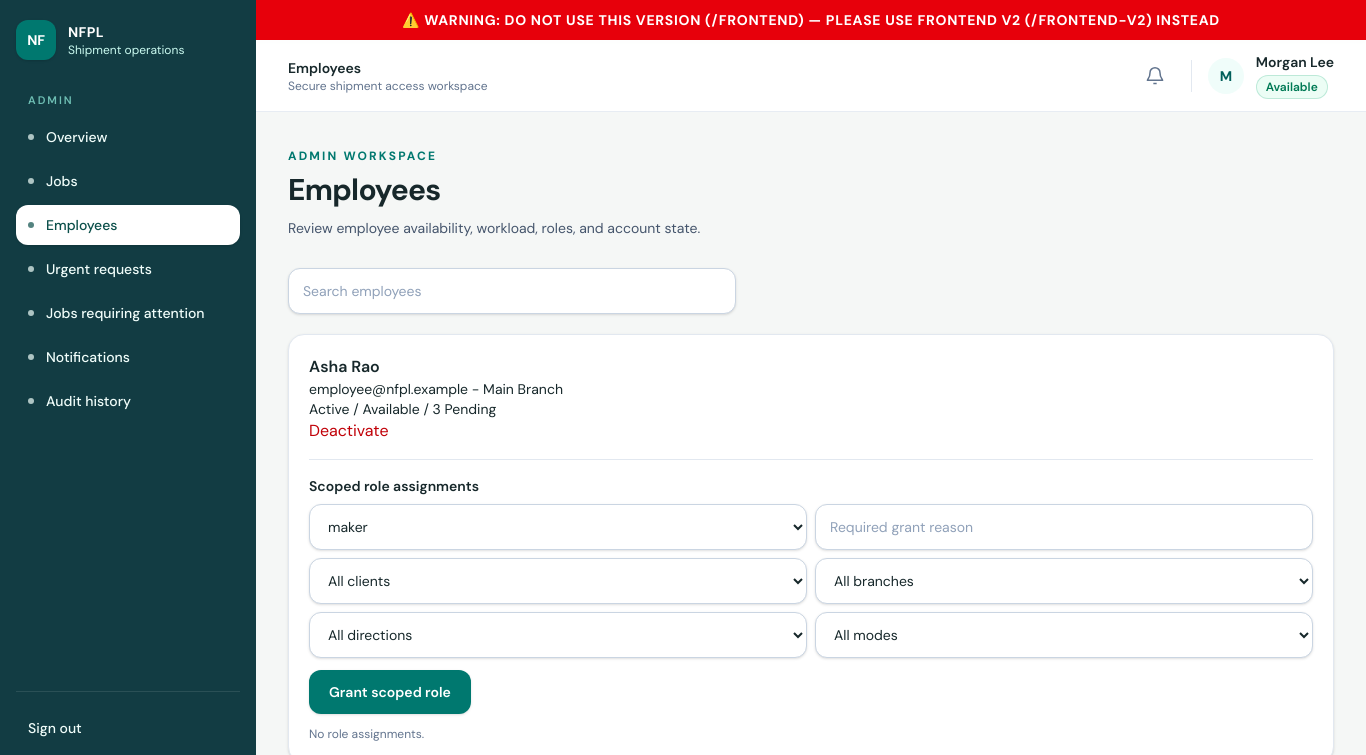
Test case: Phase 6B Admin workflows › submits scoped role grants and refreshes the employee directory
This screenshot has width=1366, height=755.
Expected: the text "Asha Rao" is shown, [309,356,380,377]
Select "checker" in the dropdown named "Role" at point(558, 527), box [309,504,807,550]
Select "Acme Imports (ACME)" in the dropdown named "Client scope" at point(558, 581), box [309,558,807,604]
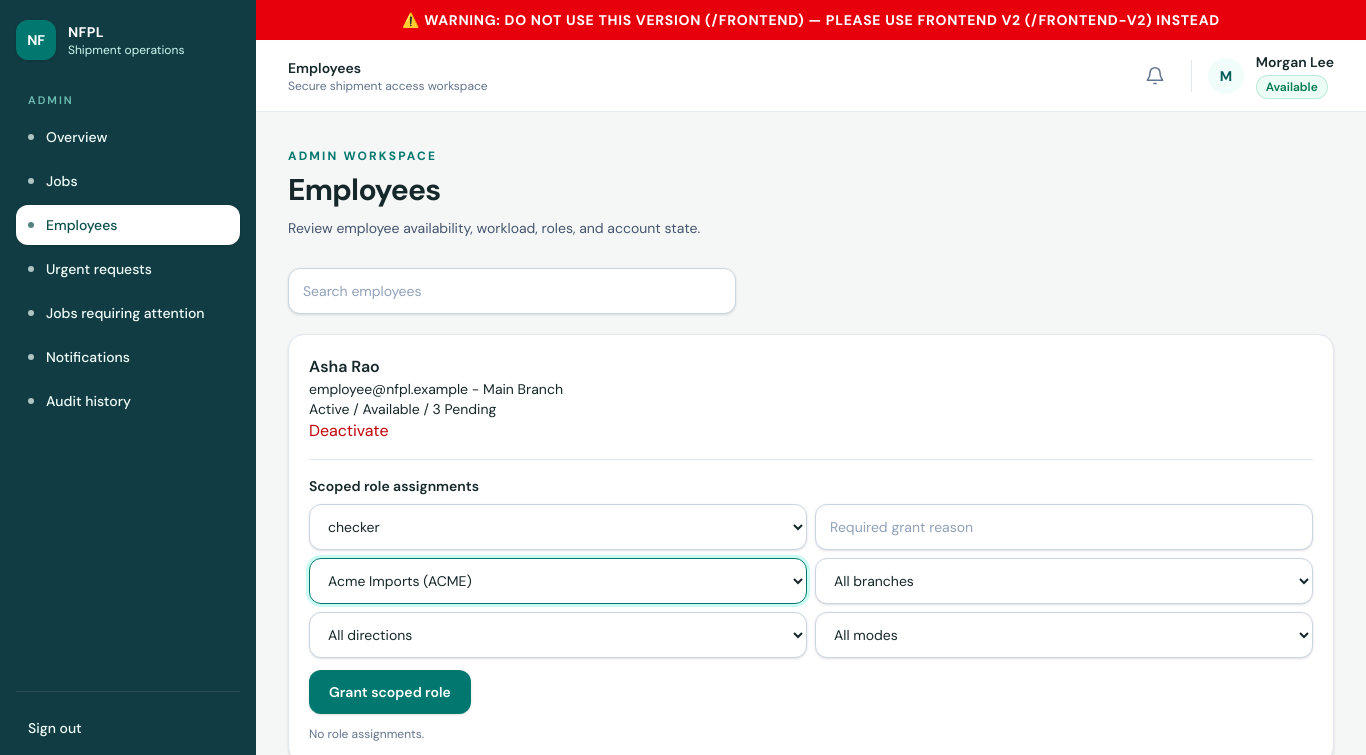
Select "Mumbai (MUM)" in the dropdown named "Branch scope" at point(1064, 581), box [815,558,1313,604]
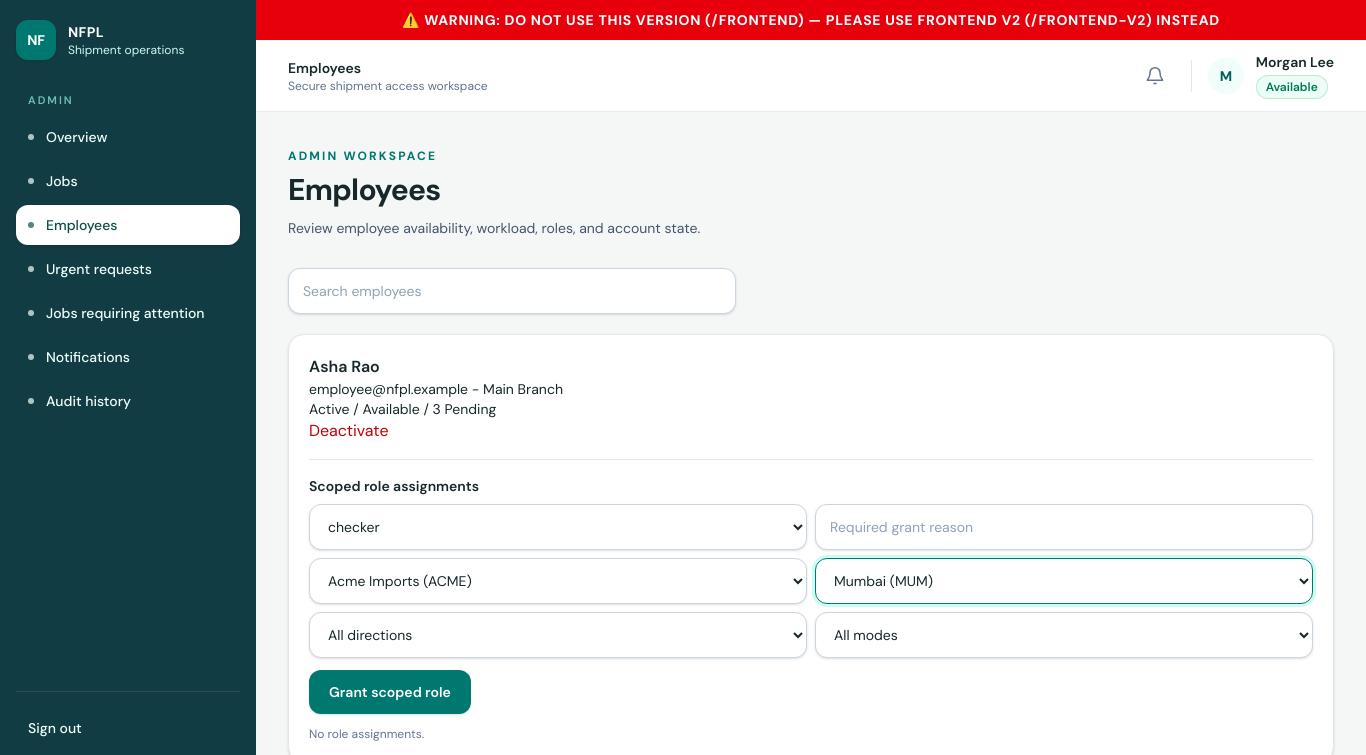
Select "Import" in the dropdown named "Direction scope" at point(558, 635), box [309,612,807,658]
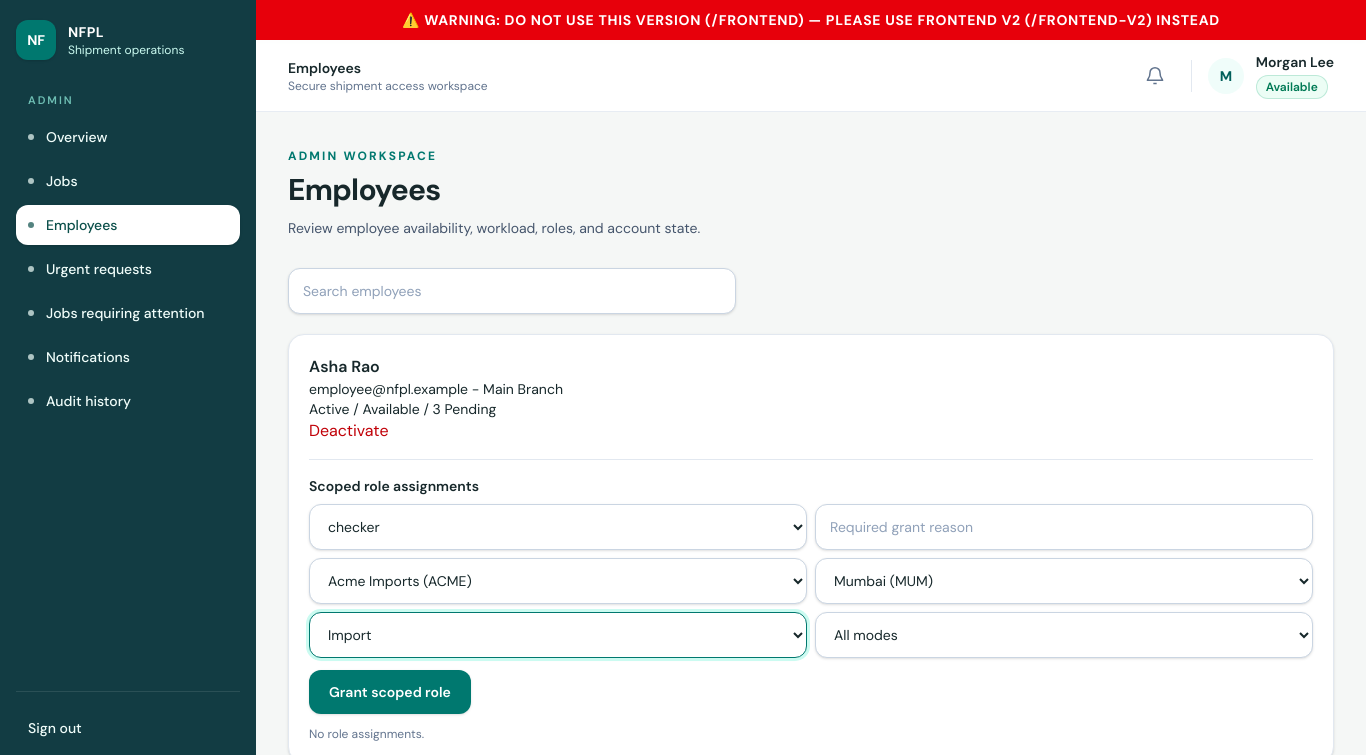
Select "Air" in the dropdown named "Mode scope" at point(1064, 635), box [815,612,1313,658]
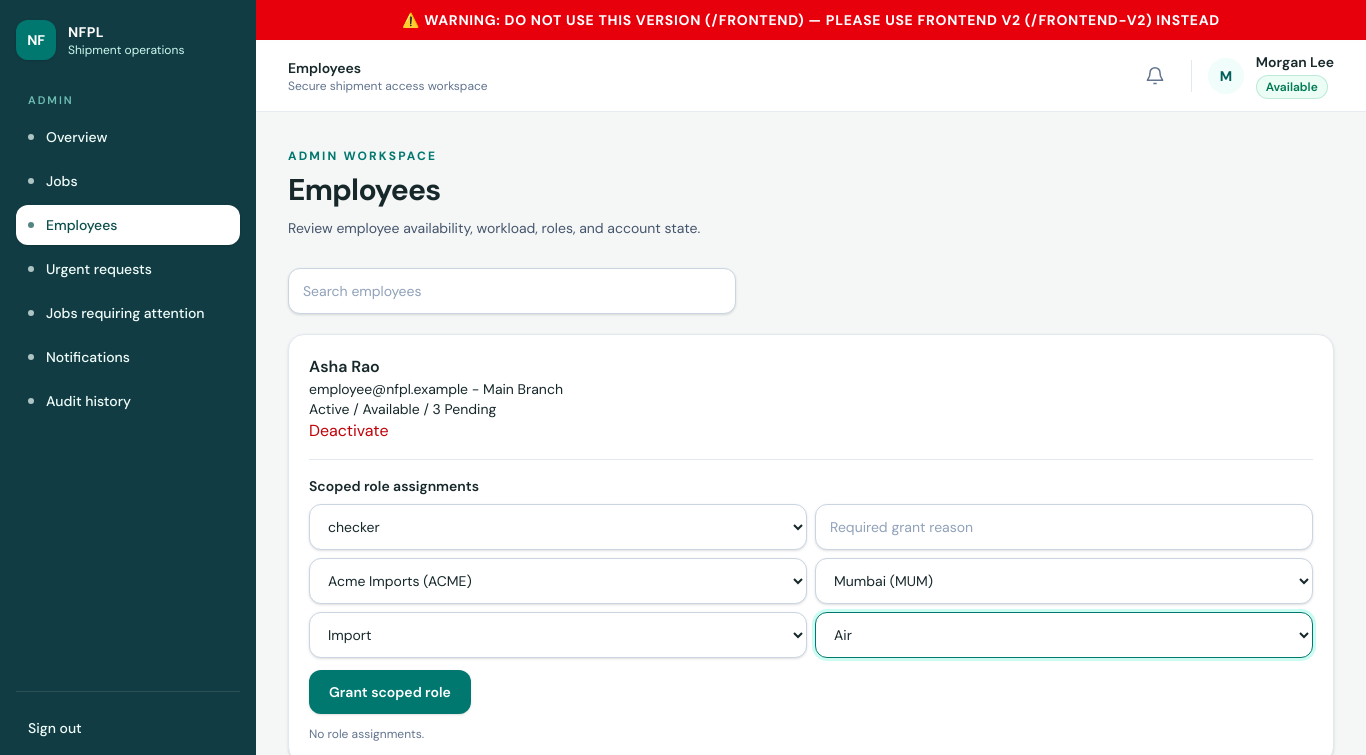
Type "Qualified for this lane" into the field named "Role grant reason" at point(1064, 527), box [815,504,1313,550]
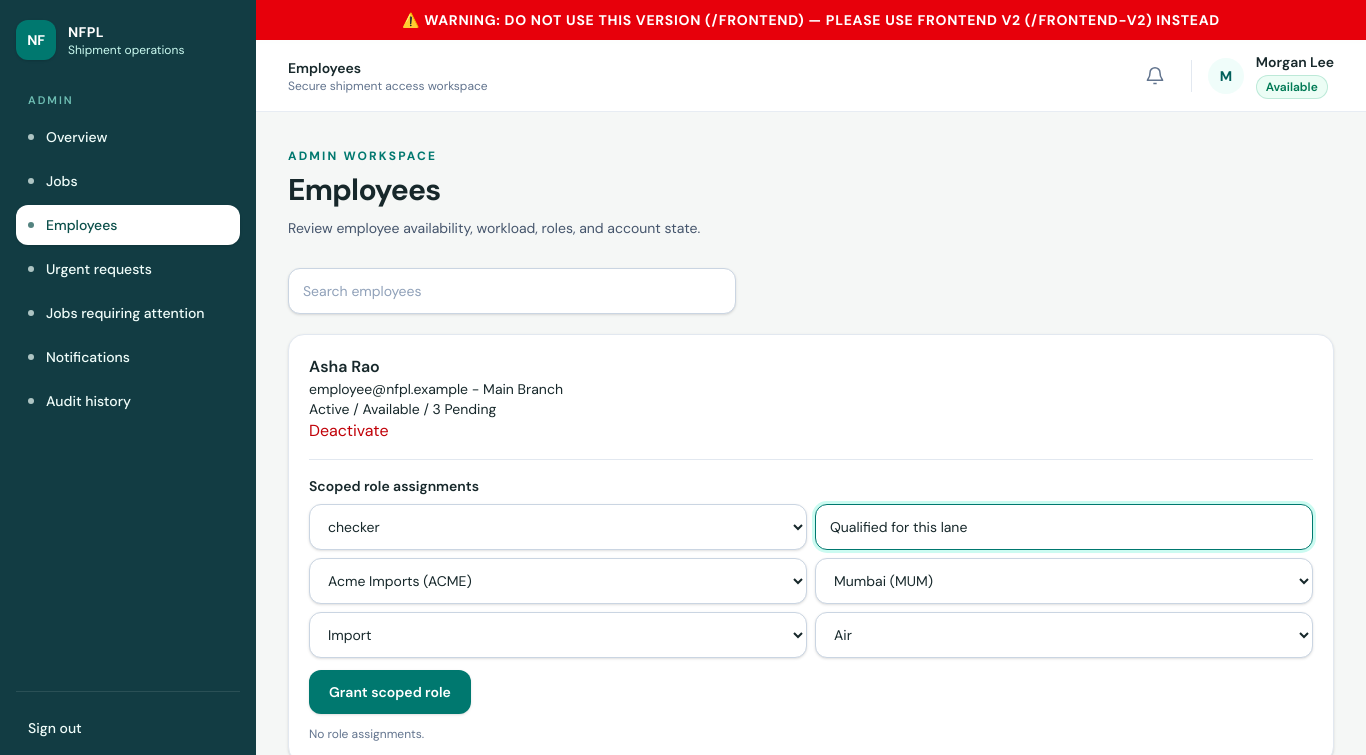
Click the button "Grant scoped role" at point(390, 692), box [309,670,471,714]
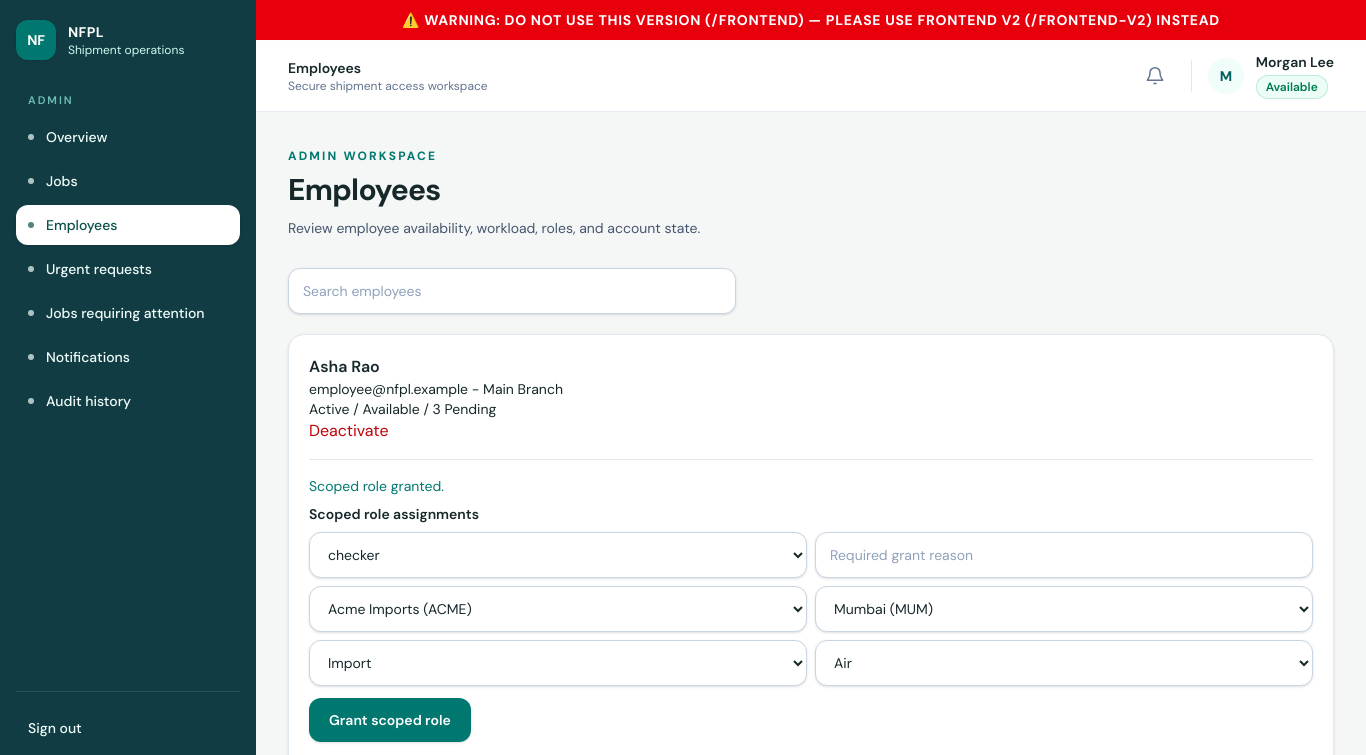
Expected: the text "Scoped role granted." is shown, [309,477,444,495]
